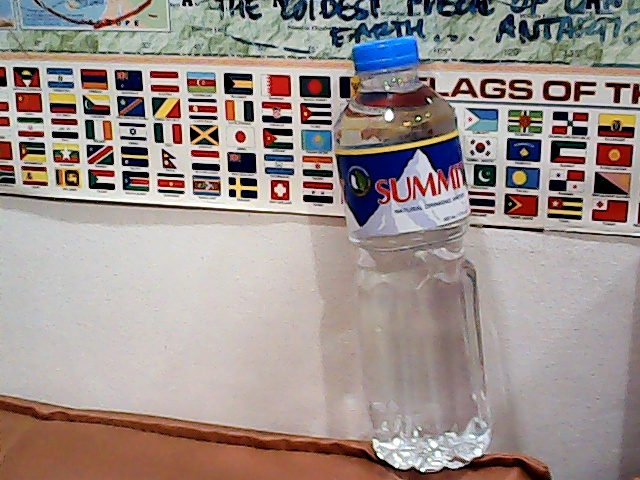Summit Water: (331, 40, 497, 480)
